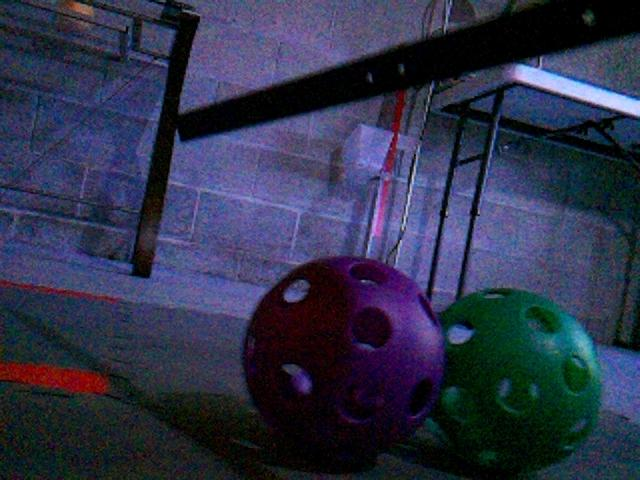Green: (430, 282, 604, 472)
Purple: (239, 251, 447, 464)
